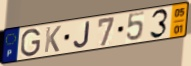3: (147, 8, 171, 40)
5: (125, 10, 146, 43)
7: (96, 15, 116, 47)
G: (19, 28, 42, 58)
J: (72, 20, 92, 49)
K: (43, 24, 62, 54)
